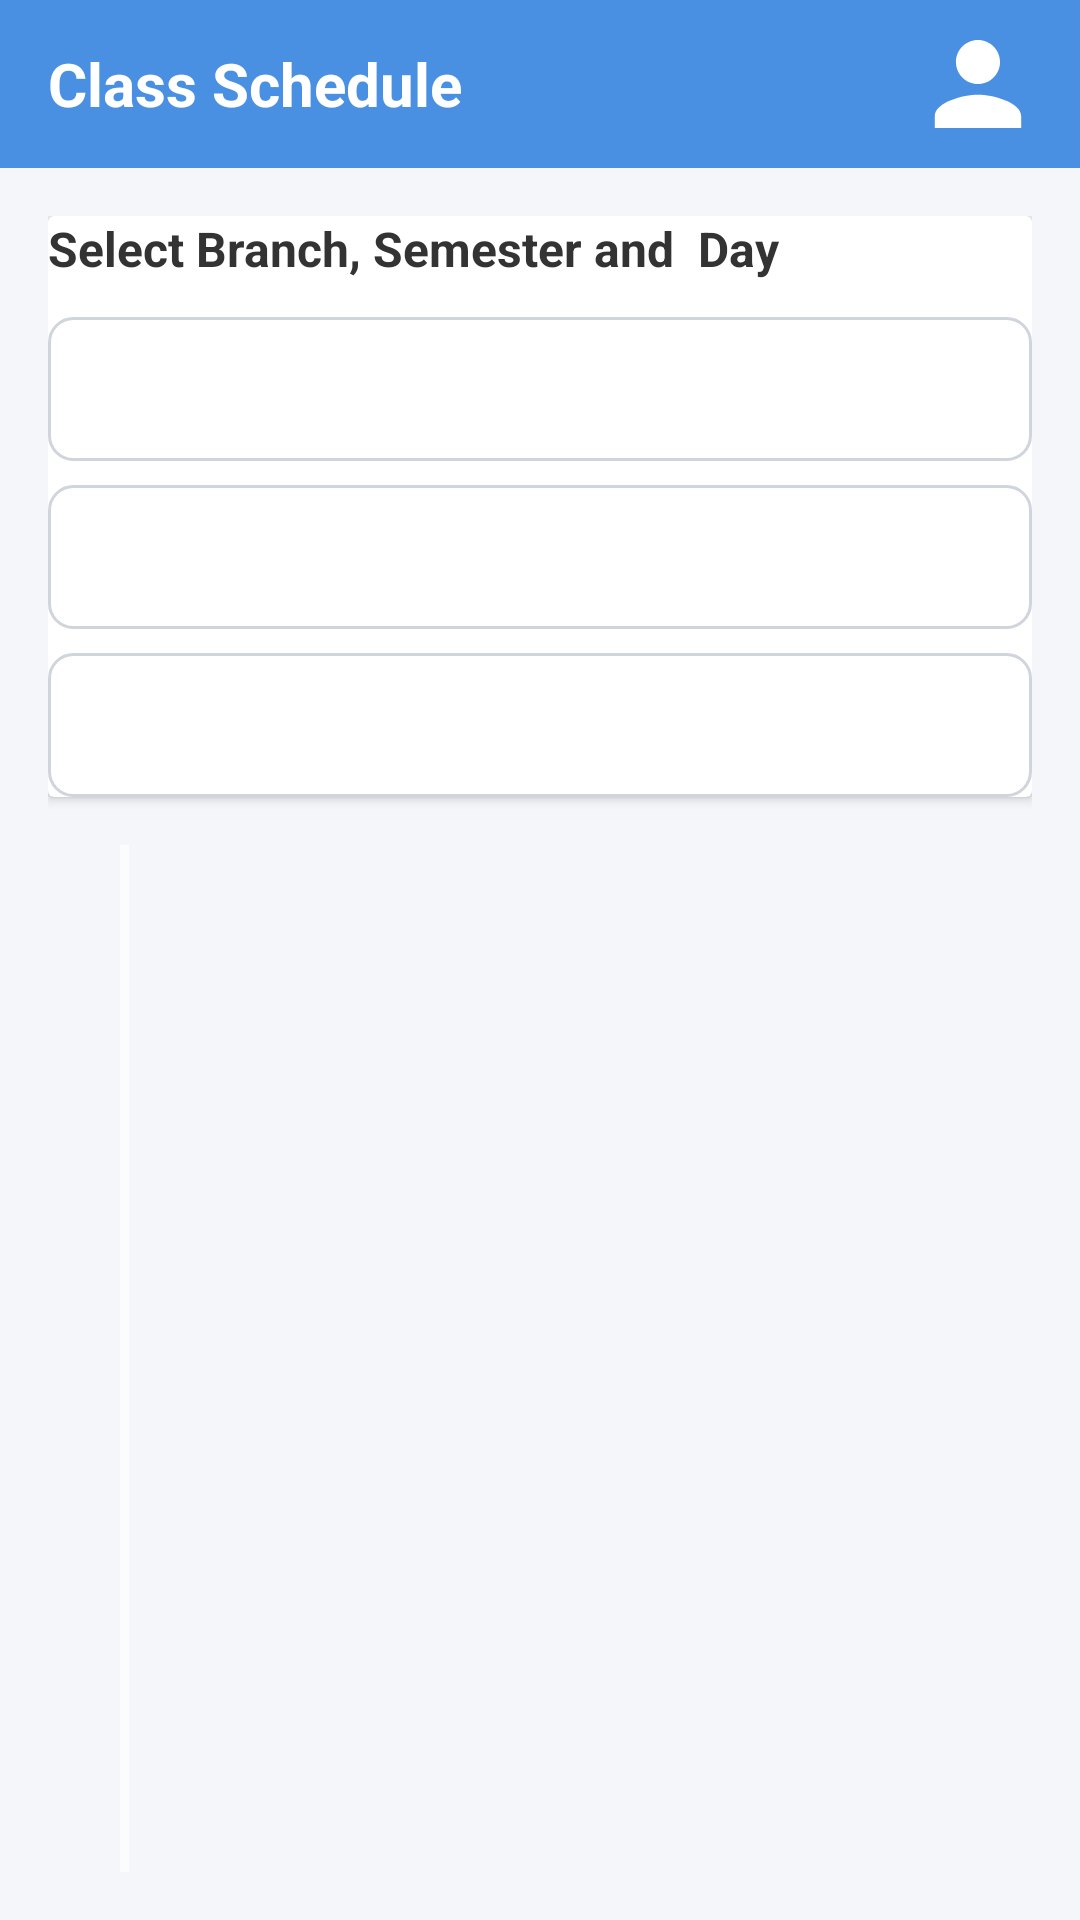

Icons on this 1080w x 1920h Android screen, each with the point to tap as (x=x, y=y):
Profile: (x=978, y=84)
